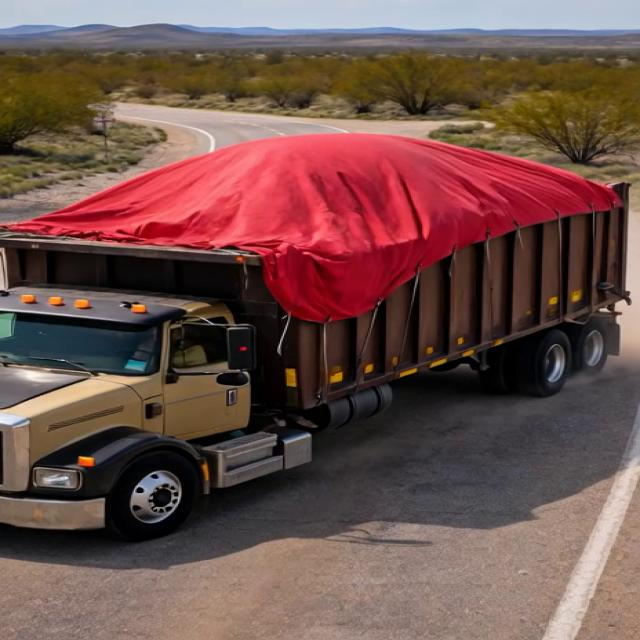trailer: (0, 122, 638, 268)
truck: (2, 94, 633, 542)
